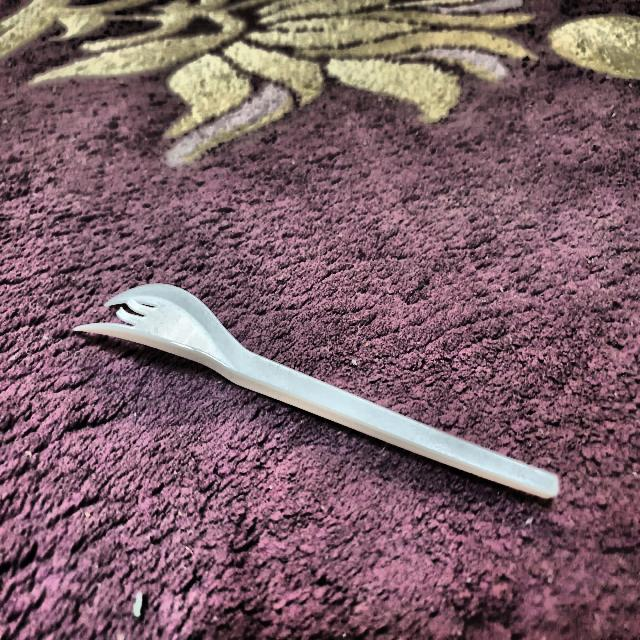plastic utensil: (73, 282, 565, 504)
